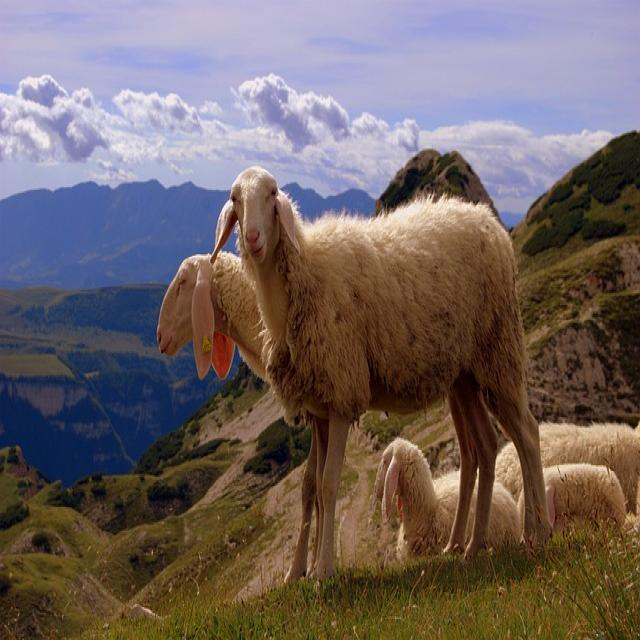goat: (156, 252, 265, 379), (375, 437, 460, 560), (539, 424, 639, 511), (546, 465, 626, 526), (489, 482, 521, 547), (495, 443, 521, 500)
